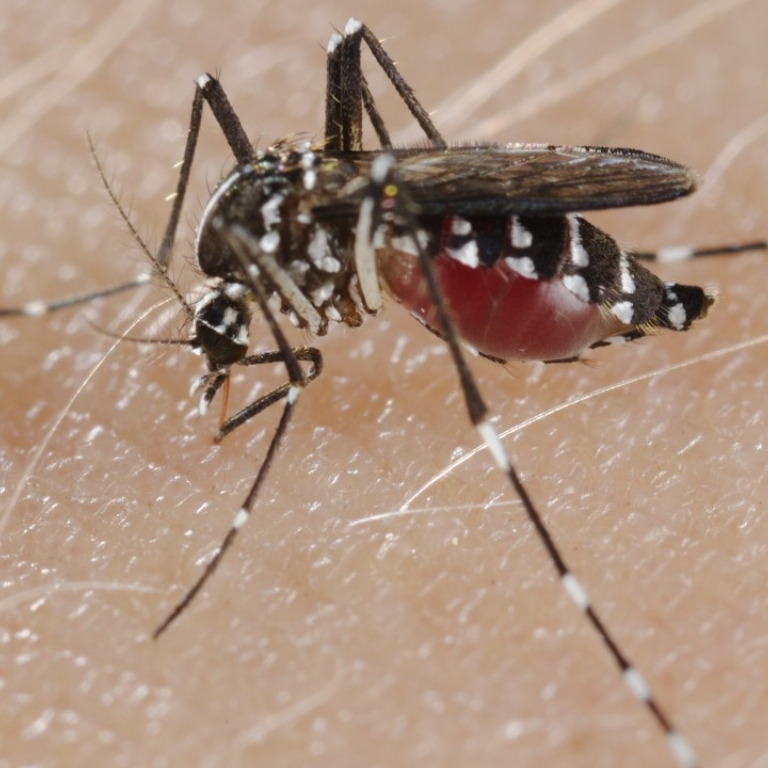dengue_mosquito: (46, 18, 714, 577)
